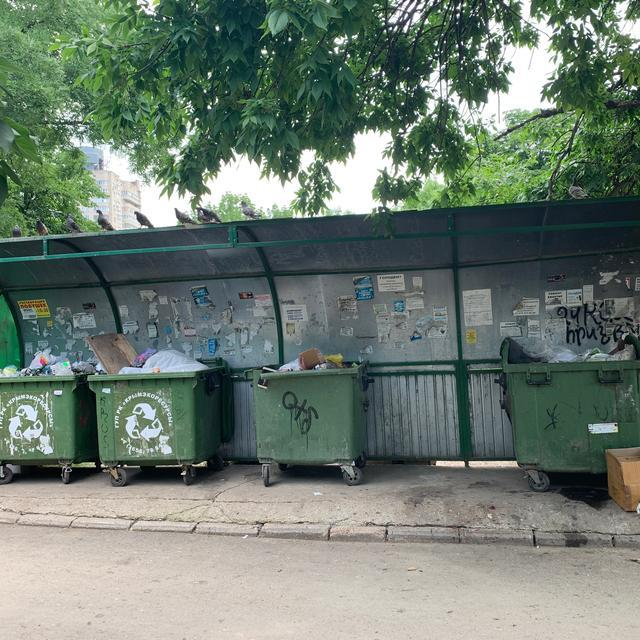Trash_Can_Full: (502, 333, 640, 472), (86, 349, 226, 463), (247, 347, 374, 466), (0, 349, 97, 466)
